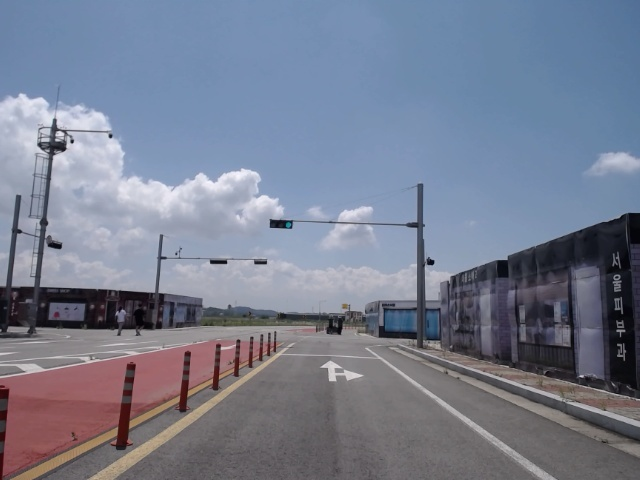green_3: (271, 220, 293, 228)
